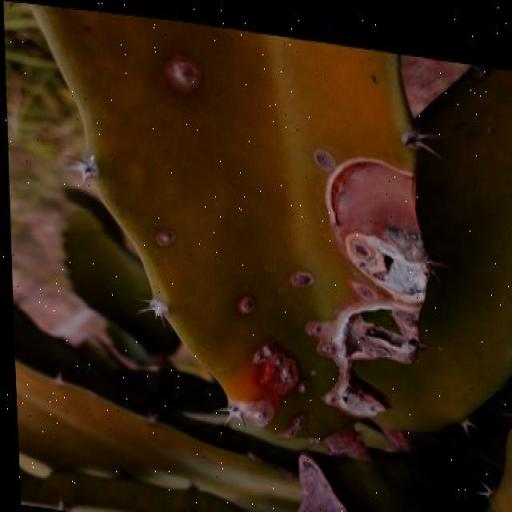stemcanker: (342, 280, 368, 306), (264, 224, 289, 250), (206, 170, 217, 186)
